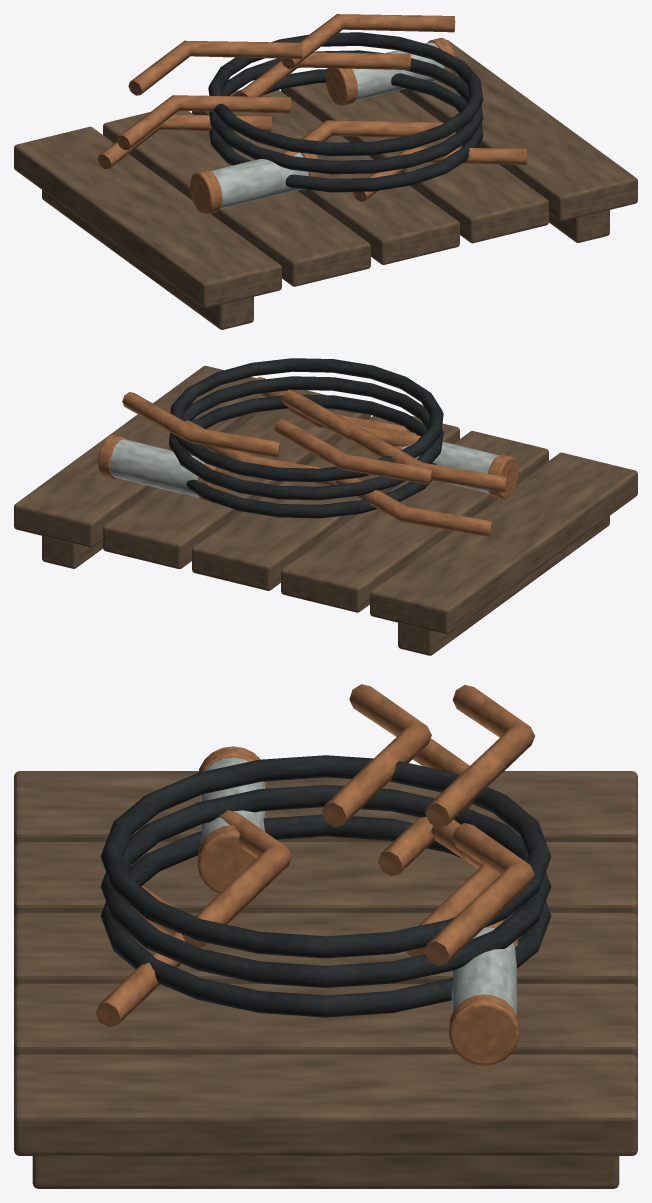
The model's file is GR_ElectricalSalvage_01.glb.
The picture shows the model from 3 angles, top to bottom: view 1: azimuth 30°, elevation 25°; view 2: azimuth 150°, elevation 25°; view 3: azimuth 270°, elevation 25°; orthographic projection. The views are drawn at different scales.
Visible parts, largest first — view 1: Static; view 2: Static; view 3: Static.
Boxes of the visible parts, x1=… form: Static: x1=14, y1=14, x2=637, y2=329; Static: x1=14, y1=358, x2=637, y2=655; Static: x1=14, y1=684, x2=637, y2=1188.
Bounding box in the file's own units: 0.88 × 0.295 × 0.67.
1 material, 1 textured.
